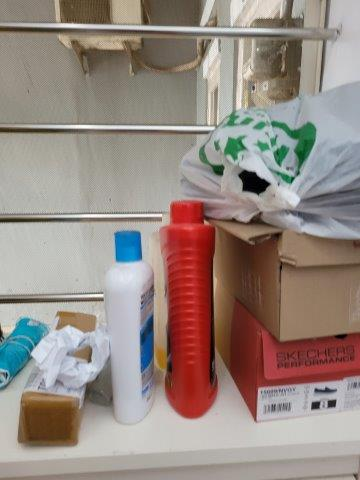kardus: (215, 225, 360, 338), (227, 289, 360, 410), (20, 393, 84, 447)
kertas: (29, 325, 109, 385)
plastik: (176, 81, 360, 233)
